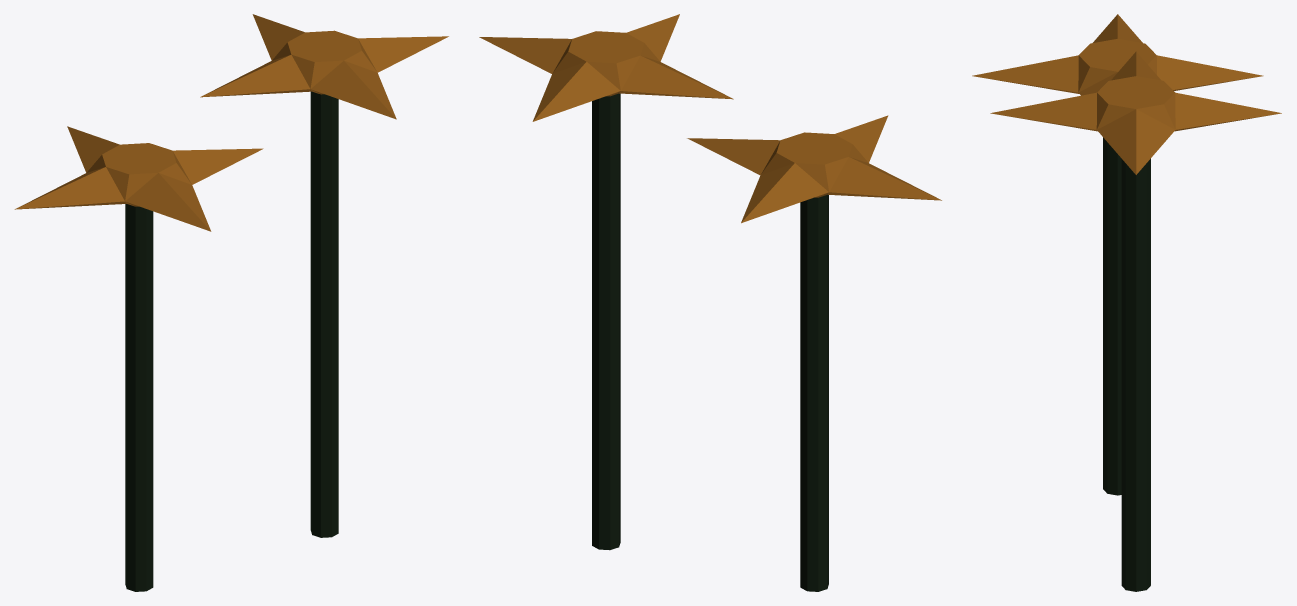
File: Flower_Buttercup_Cluster_01.fbx
3 views of the same model, side by side, from view 1: azimuth 30°, elevation 25°; view 2: azimuth 150°, elevation 25°; view 3: azimuth 270°, elevation 25° (orthographic). The views are drawn at different scales.
Parts seen in each view (by area): view 1: Flower_Buttercup_Cluster_01_Mesh; view 2: Flower_Buttercup_Cluster_01_Mesh; view 3: Flower_Buttercup_Cluster_01_Mesh.
Boxes of the visible parts, bbox=[...] form: Flower_Buttercup_Cluster_01_Mesh: bbox=[14, 14, 448, 591]; Flower_Buttercup_Cluster_01_Mesh: bbox=[479, 14, 941, 591]; Flower_Buttercup_Cluster_01_Mesh: bbox=[972, 14, 1281, 591].
Bounding box in the file's own units: 0.32 × 0.334 × 0.1913.
Materials: 1 (1 with a texture image).
